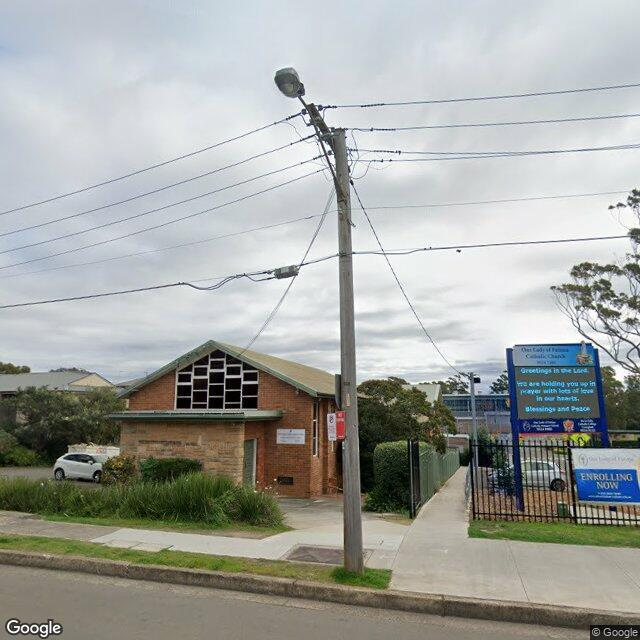crossarm: (306, 102, 338, 157)
steel-pole: (470, 372, 479, 488)
streetlight: (274, 67, 348, 203)
timber-pole: (334, 130, 364, 578)
